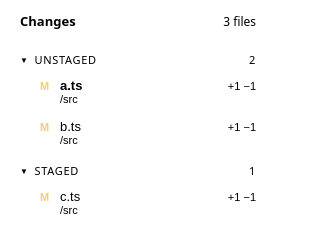
Scenario: ChangesSidebar › clicking a group heading collapses and expands that group only
expect the number of list items with class "entry" is 3: met, box [8,71,268,112]; [8,112,268,153]; [8,182,268,223]
Click the button "▼ Unstaged 2".
click(66, 60)  # box [8,42,268,71]
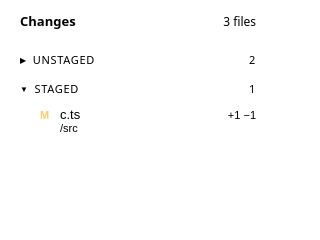
expect the button "▶ Unstaged 2" is collapsed: met
Click the button "▶ Unstaged 2".
click(64, 60)  # box [8,42,268,71]
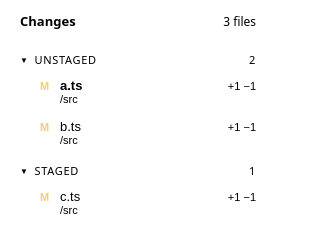
expect the number of list items with class "entry" is 3: met, box [8,71,268,112]; [8,112,268,153]; [8,182,268,223]
